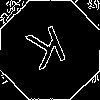K: (25, 25, 72, 79)
